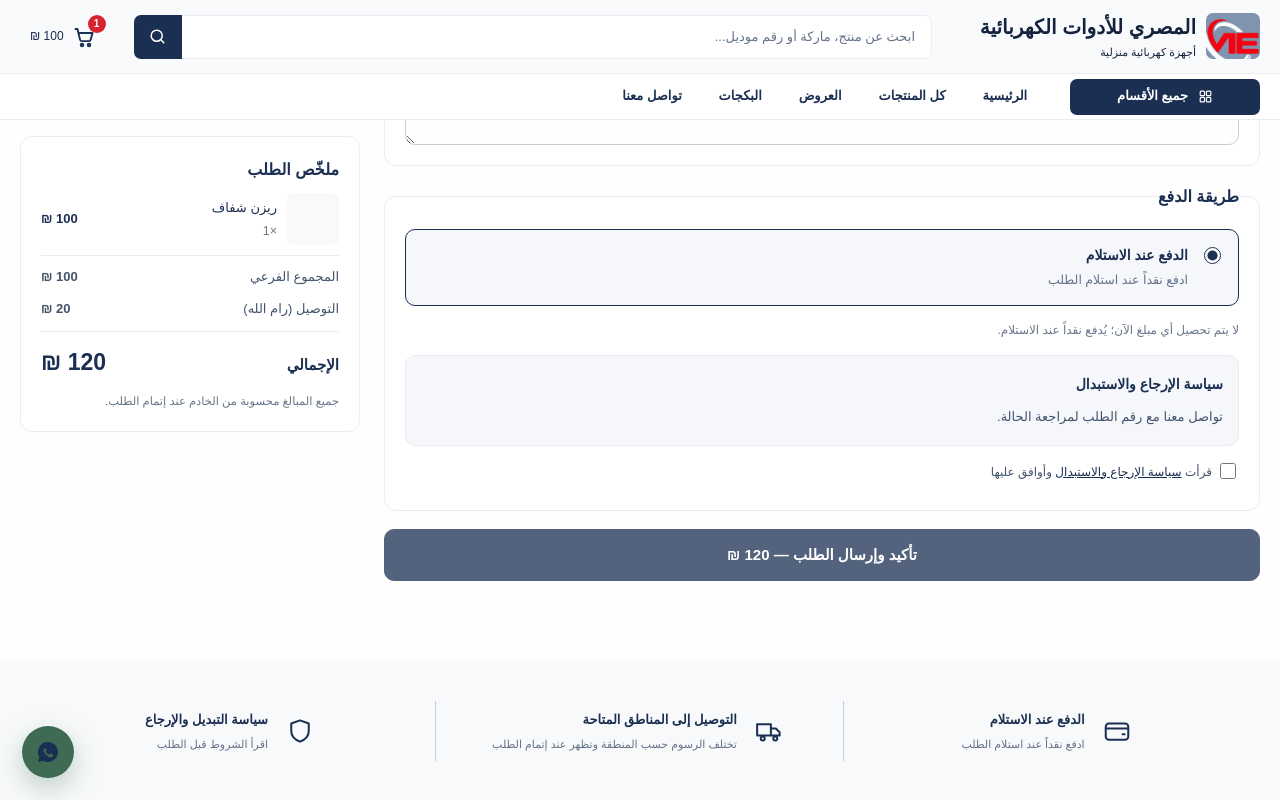
Test case: public storefront › requires return-policy acknowledgement before enabling final confirmation
The width and height of the screenshot is (1280, 800).
(page scrolled)
Check: the text "تواصل معنا مع رقم الطلب لمراجعة الحالة." is shown, box [997, 409, 1223, 424]
Check: the button "تأكيد وإرسال الطلب — 120 ₪" is disabled, box [384, 529, 1260, 581]
Click the checkbox labelled "قرأت سياسة الإرجاع والاستبدال وأوافق عليها". click: (1228, 471)
box: [1220, 463, 1236, 479]
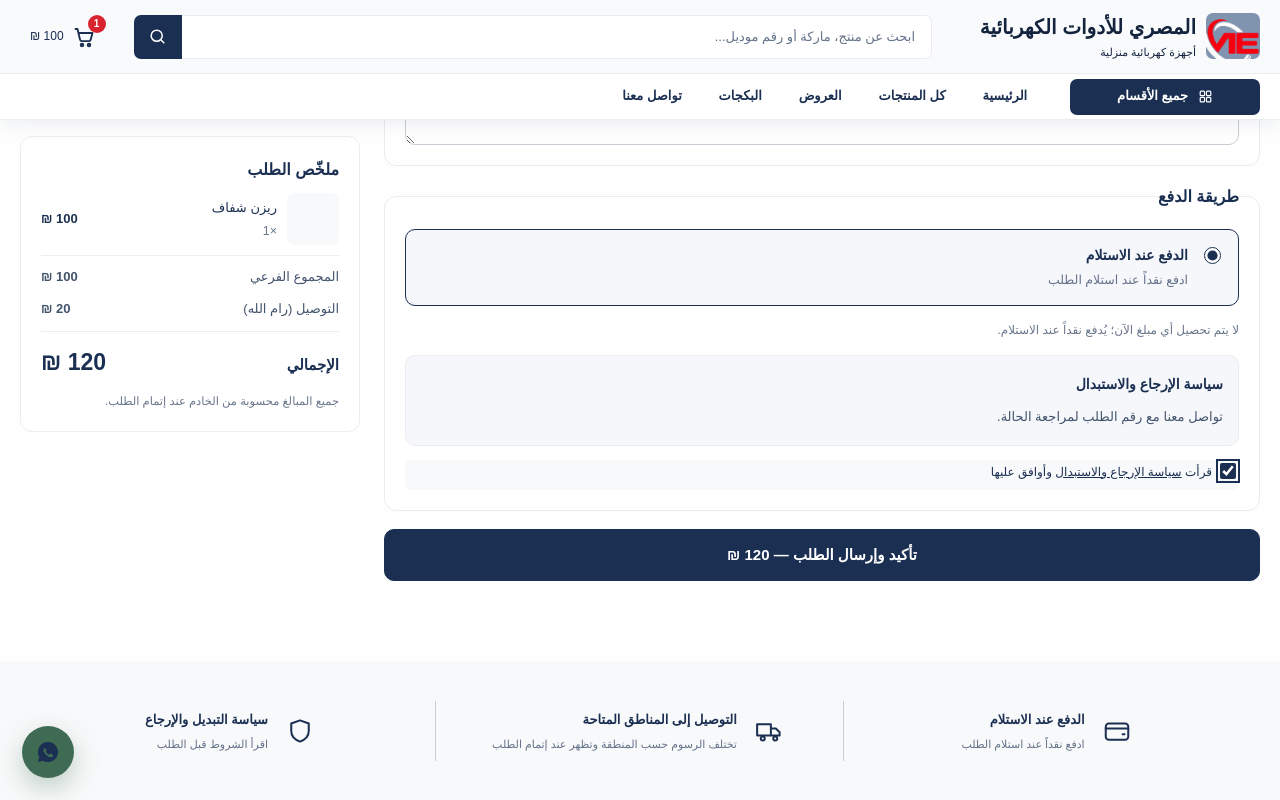
Check: the button "تأكيد وإرسال الطلب — 120 ₪" is enabled, box [384, 529, 1260, 581]
